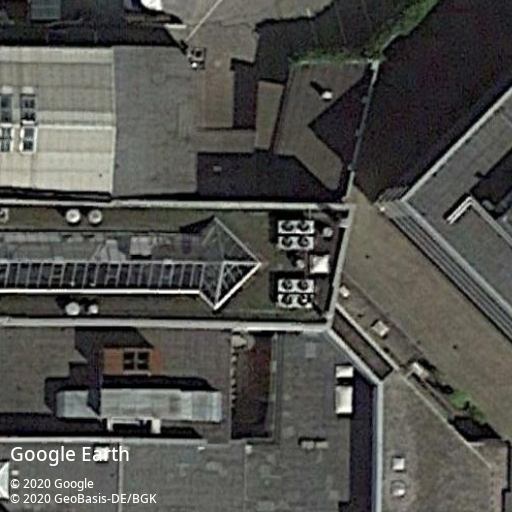Chiller: (277, 218, 315, 234), (277, 234, 315, 250), (277, 277, 315, 293), (277, 291, 315, 307)
